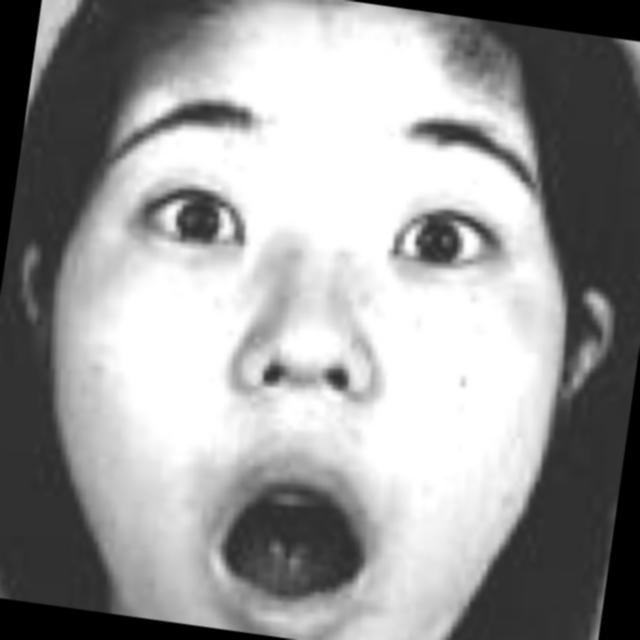surprise: (10, 15, 595, 640)
